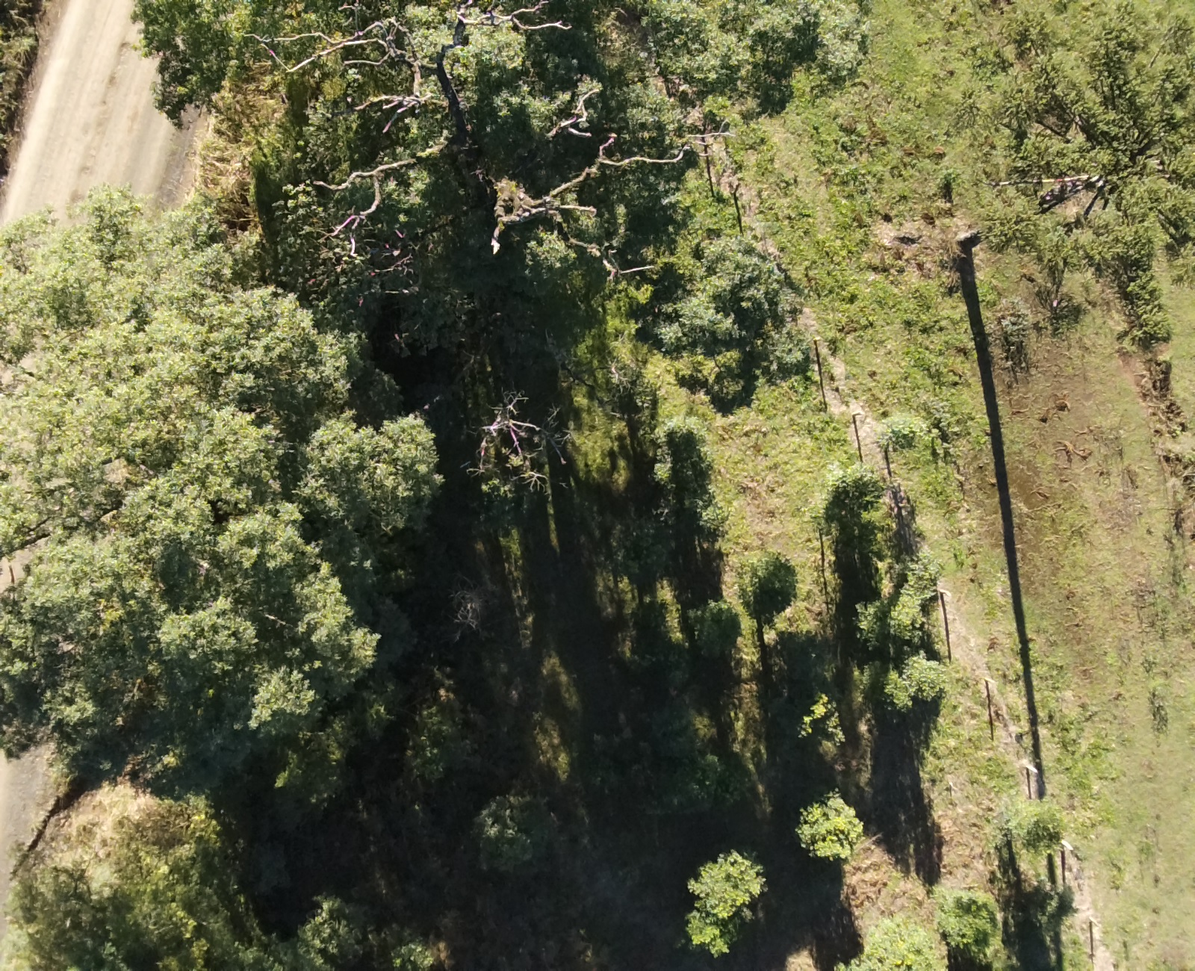erva: (788, 789, 878, 866), (991, 790, 1071, 869), (925, 881, 1002, 955), (641, 413, 721, 483), (733, 550, 803, 626), (686, 840, 763, 905), (855, 587, 932, 649), (816, 460, 880, 522), (670, 908, 743, 962), (687, 589, 747, 654), (868, 663, 922, 725), (906, 649, 961, 704)
